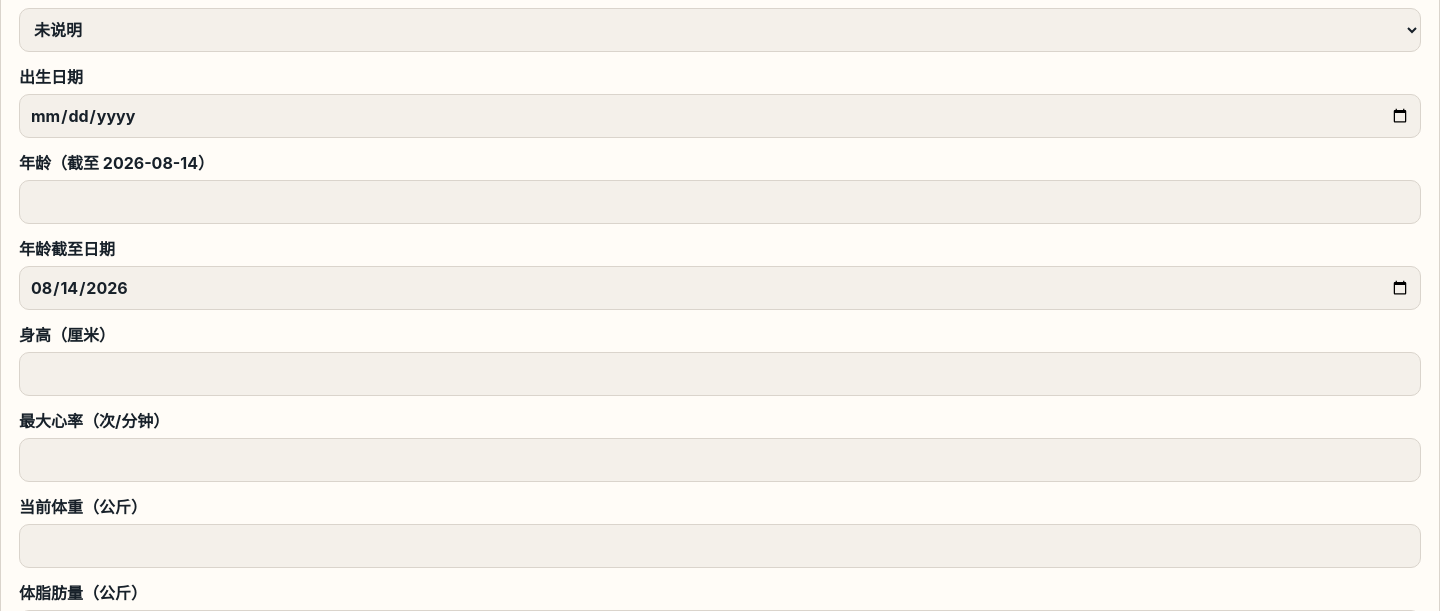
it: keeps personal-profile save feedback visible after data refresh
(page scrolled)
Type "175" into the number field labelled "身高（厘米）".
click(720, 374); type("175")  # box [19,352,1421,396]
(page scrolled)
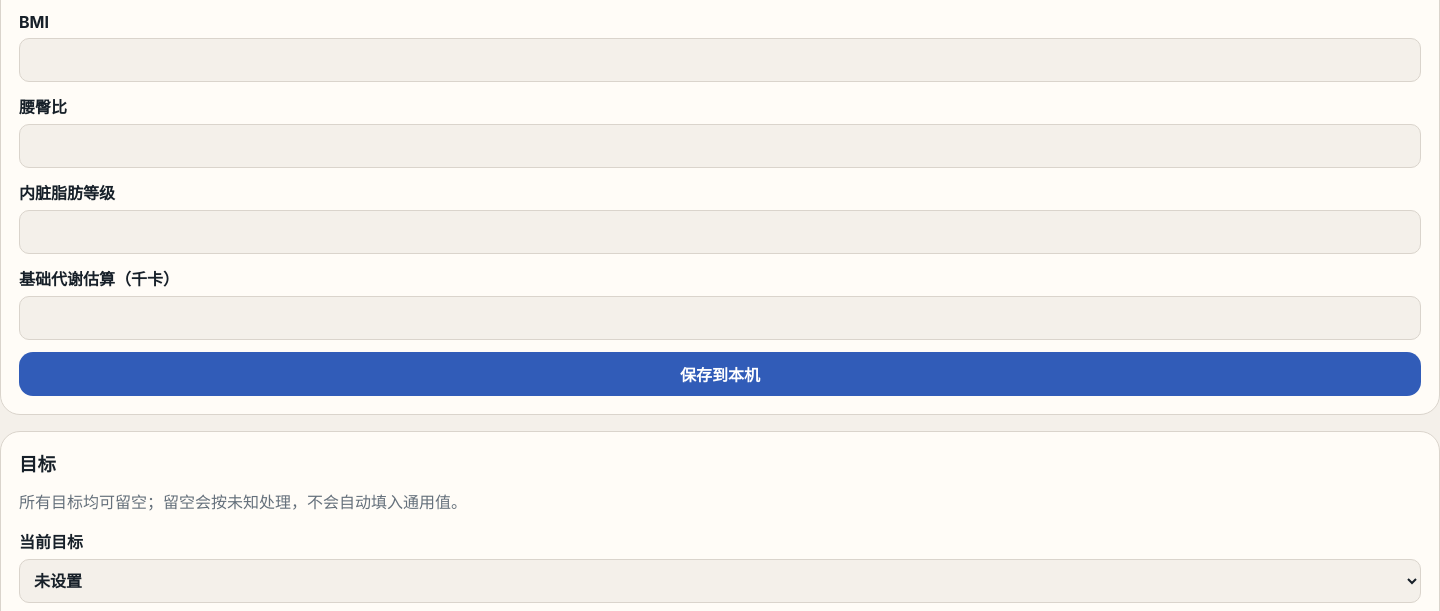
Click the button "保存到本机".
click(720, 374)  # box [19,352,1421,396]
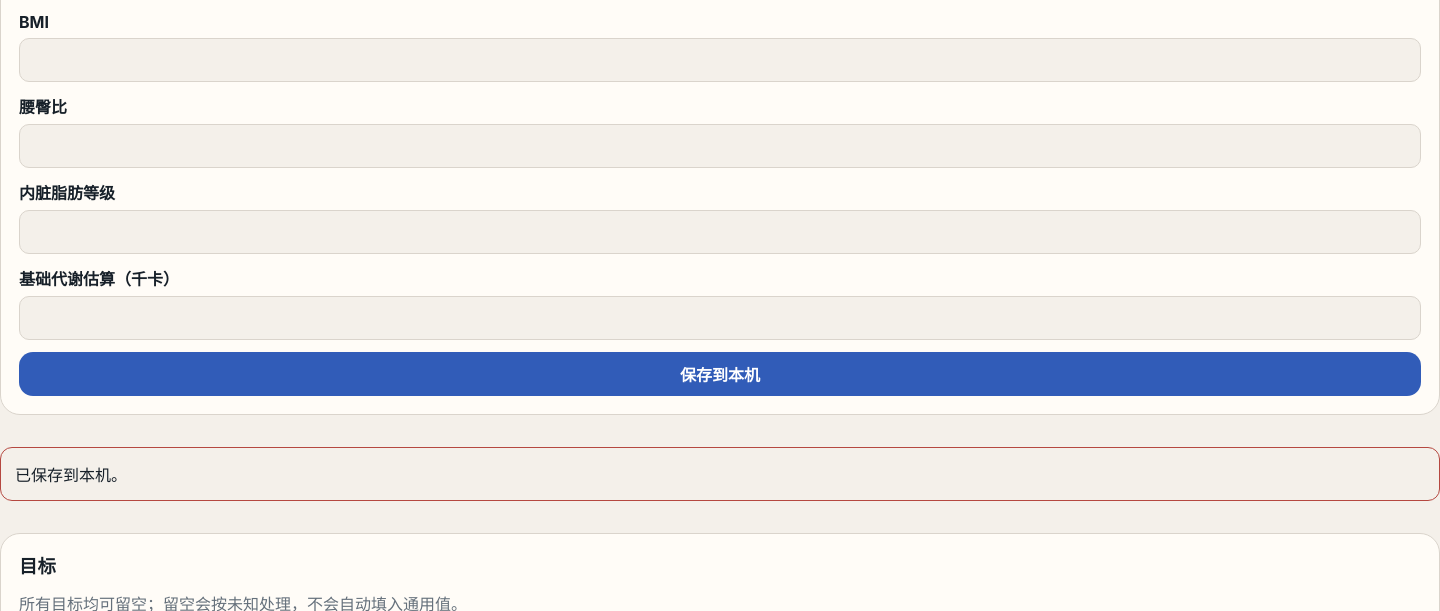
Expected: the message reads "已保存到本机。", [15,465,127,485]
